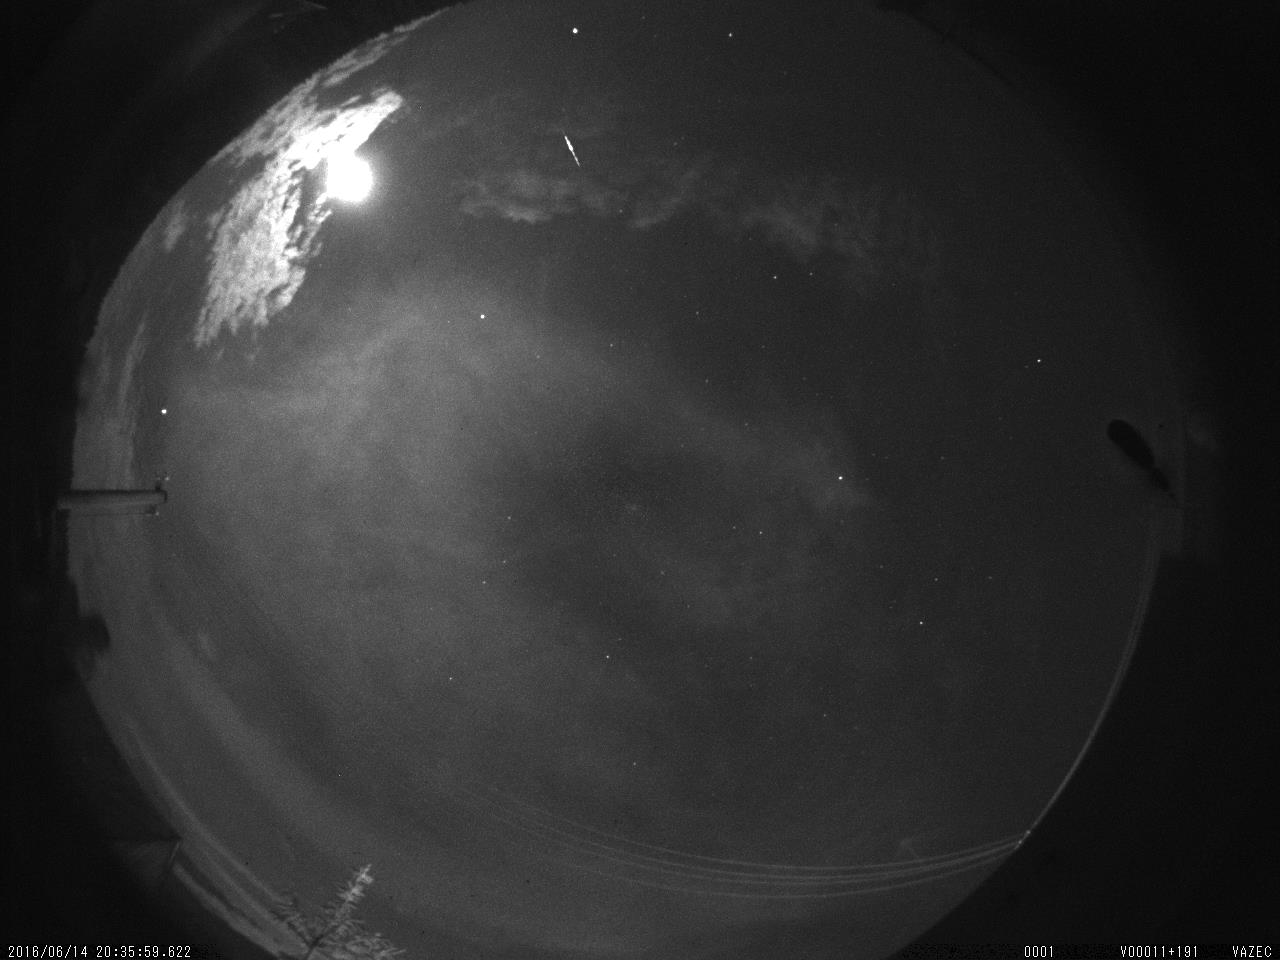meteor: (546, 123, 599, 181)
